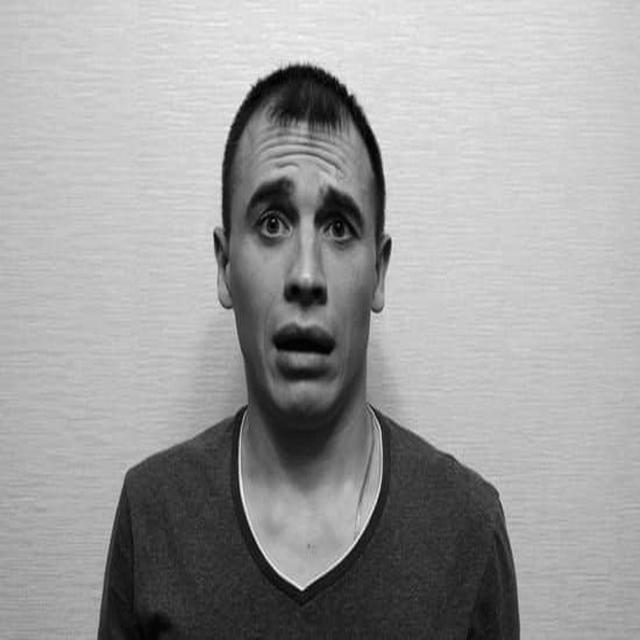Fear: (236, 120, 370, 422)
